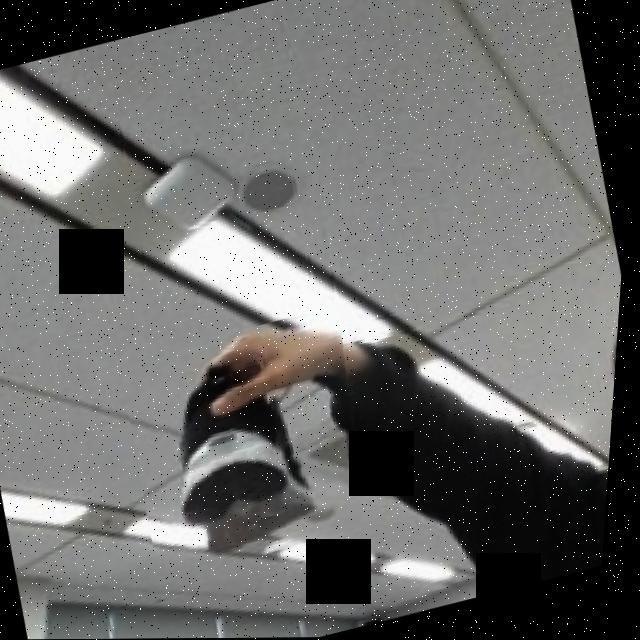shoe: (112, 305, 399, 586)
